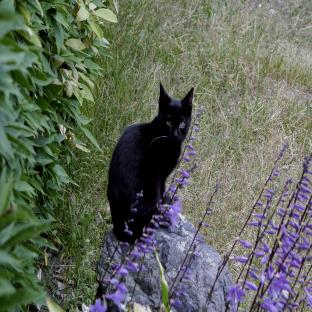Animal: (108, 83, 193, 243)
